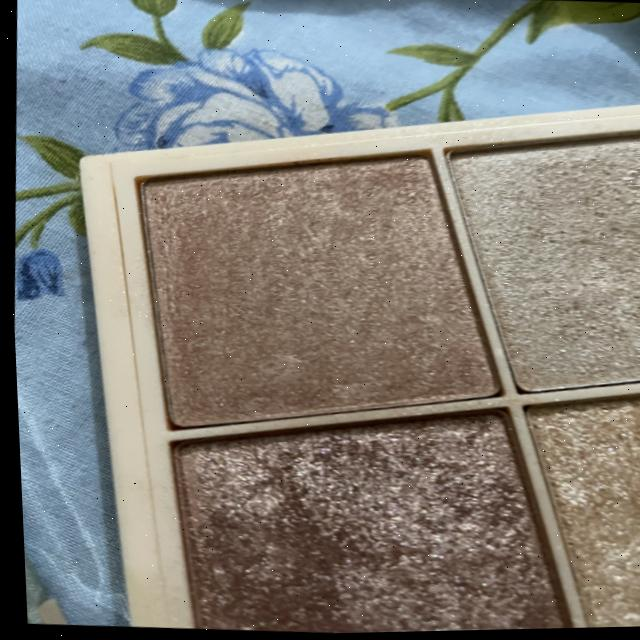highlighter: (107, 120, 519, 457), (144, 379, 587, 638), (418, 105, 640, 410), (493, 378, 640, 632)
